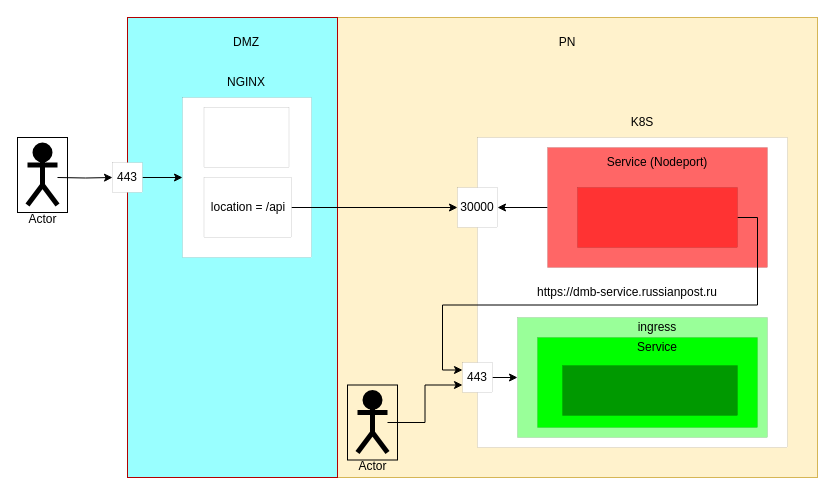
Image size: 835x495. Some labels were removed from this diagram. The shapes that lost their labels are listed below. From the top down, each one's centre as x and y in pixels, then its label:
At (x=246, y=137): "location = / static".
At (x=657, y=217): "dmb-web-api gateway".
At (x=649, y=390): "dmb-service".
